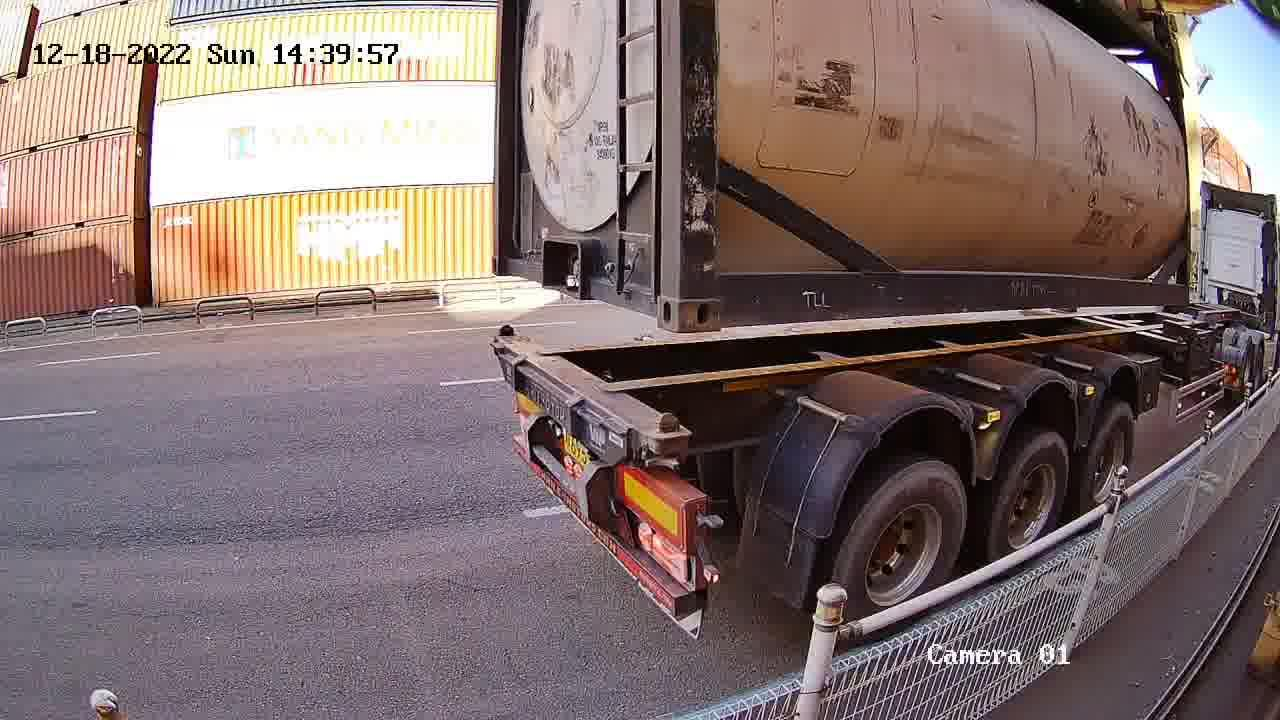Chassis: (491, 338, 691, 466)
Cone: (641, 409, 689, 473), (489, 324, 519, 362)
Hole_L: (679, 252, 767, 331), (489, 232, 526, 278)
Hole_R: (618, 245, 678, 334)
Tire: (838, 461, 965, 616), (991, 434, 1070, 554), (1087, 409, 1135, 502)
